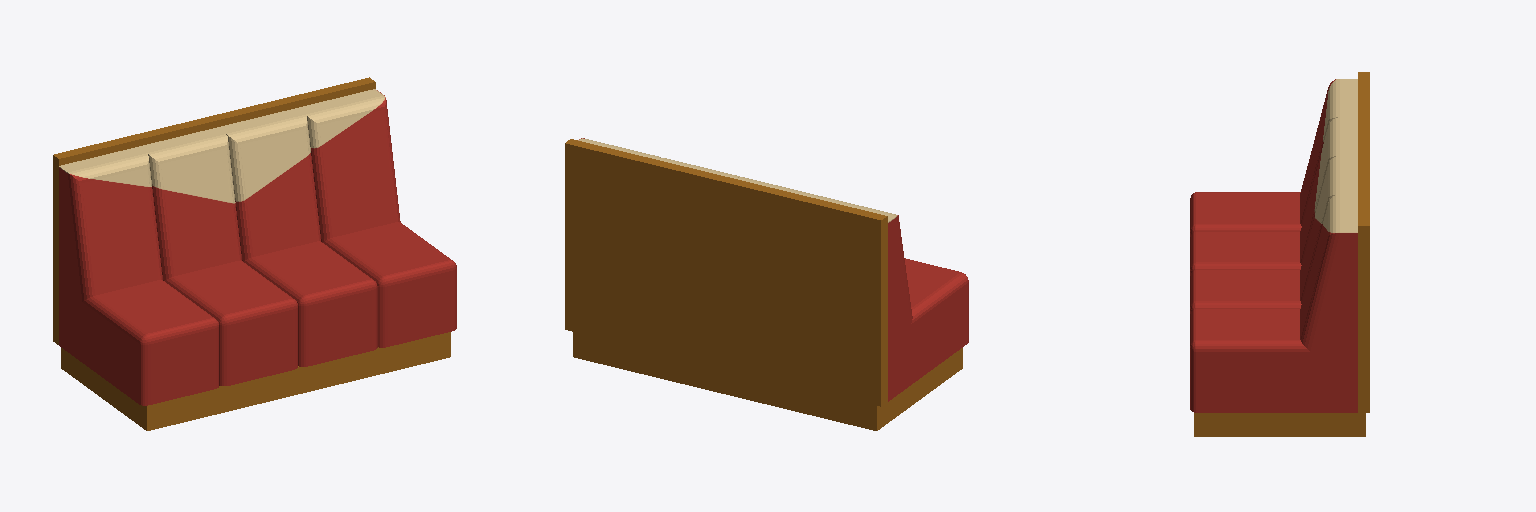
The picture shows the model from 3 angles: view 1: azimuth 30°, elevation 25°; view 2: azimuth 150°, elevation 25°; view 3: azimuth 270°, elevation 25°; orthographic projection.
Visible parts, largest first — view 1: asiento1, respaldoUp1, respaldoUp2, respaldoUp4, respaldoUp3, asiento3, asiento4, asiento2, base, pCube2, respaldoDown1; view 2: pCube2, base, asiento1, respaldoUp1, respaldoDown1; view 3: asiento4, respaldoUp4, asiento1, asiento3, asiento2, base, pCube2, respaldoDown4, respaldoUp3, respaldoUp2, respaldoUp1.
Boxes of the visible parts, box(x1,y1,x2,y2) form: asiento1: box(82, 280, 218, 405); respaldoUp1: box(59, 147, 162, 306); respaldoUp2: box(139, 128, 241, 280); respaldoUp4: box(297, 89, 400, 241); respaldoUp3: box(217, 108, 320, 261); asiento3: box(244, 241, 377, 366); asiento4: box(322, 222, 456, 347); asiento2: box(165, 260, 297, 385); base: box(61, 332, 450, 430); pCube2: box(53, 77, 375, 344); respaldoDown1: box(59, 291, 81, 361); pCube2: box(565, 139, 887, 406); base: box(573, 332, 962, 430); asiento1: box(905, 258, 968, 385); respaldoUp1: box(816, 196, 912, 346); respaldoDown1: box(888, 331, 909, 401); asiento4: box(1190, 308, 1311, 412); respaldoUp4: box(1300, 195, 1357, 356); asiento1: box(1190, 192, 1301, 236); asiento3: box(1190, 269, 1301, 313); asiento2: box(1190, 231, 1301, 275); base: box(1194, 413, 1365, 436); pCube2: box(1358, 72, 1369, 412); respaldoDown4: box(1312, 357, 1357, 412); respaldoUp3: box(1300, 156, 1357, 303); respaldoUp2: box(1300, 117, 1357, 264); respaldoUp1: box(1300, 79, 1357, 225).
Bounding box in the file's own units: 2.4 × 1.55 × 1.18.
Materials: 4 (4 with a texture image).